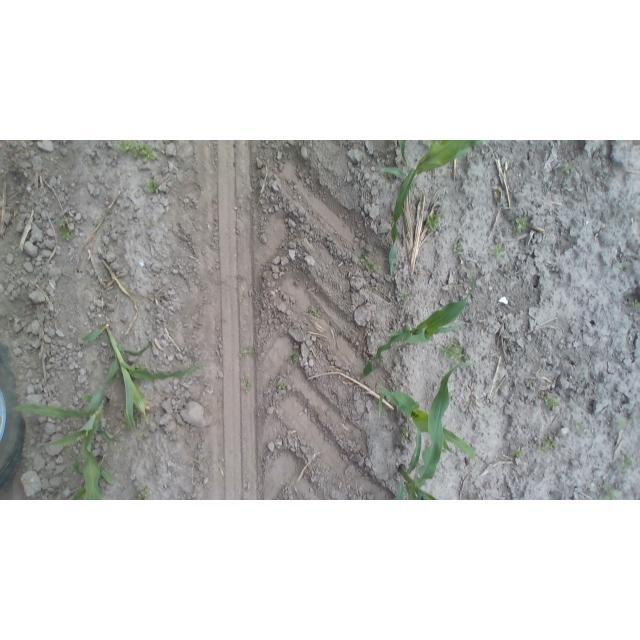Maize: (380, 140, 486, 280), (83, 321, 206, 435), (10, 373, 123, 495), (380, 358, 476, 500), (357, 277, 478, 379), (377, 385, 476, 460), (398, 140, 411, 168)
Weeds: (114, 141, 158, 162), (440, 340, 465, 365), (56, 218, 74, 243), (359, 252, 378, 273), (424, 212, 442, 233), (538, 435, 558, 453), (543, 394, 561, 412), (143, 178, 161, 195), (513, 215, 530, 233), (240, 344, 257, 360), (618, 453, 634, 470), (133, 485, 151, 500), (510, 445, 527, 460), (613, 417, 629, 432), (601, 487, 619, 500), (492, 243, 507, 258), (399, 424, 413, 440), (573, 421, 587, 436), (308, 306, 323, 320), (242, 375, 253, 394), (287, 349, 301, 363), (618, 260, 631, 273), (276, 381, 289, 392), (453, 241, 463, 255), (399, 291, 411, 302), (562, 165, 574, 176), (133, 361, 146, 371), (145, 219, 156, 230), (121, 419, 131, 431), (632, 297, 639, 310)
